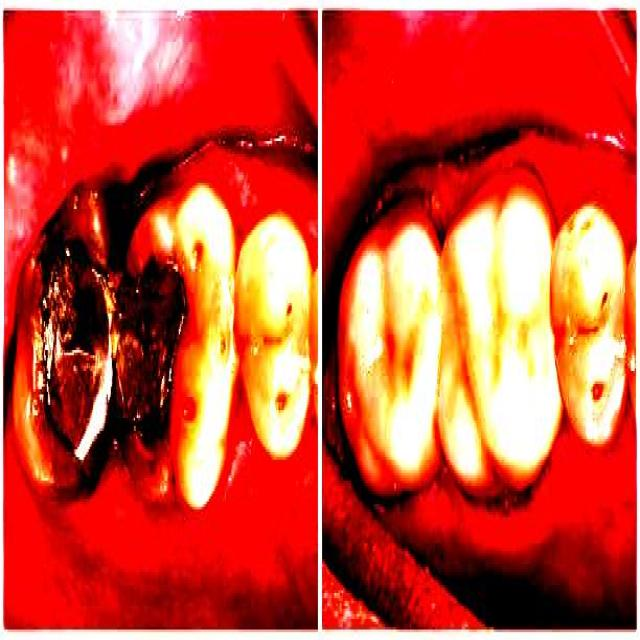caries: (14, 192, 111, 495), (117, 201, 215, 500), (260, 282, 298, 359), (584, 262, 612, 335), (263, 366, 295, 426), (587, 354, 612, 424)
